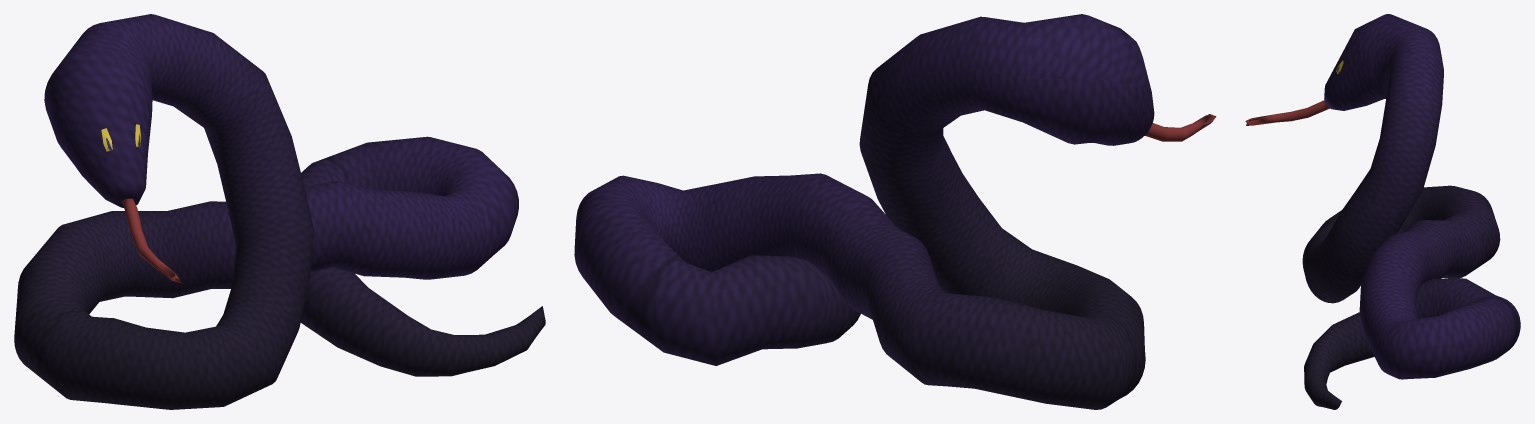
The picture shows the model from 3 angles, left to right: view 1: azimuth 30°, elevation 25°; view 2: azimuth 150°, elevation 25°; view 3: azimuth 270°, elevation 25°; orthographic projection. The views are drawn at different scales.
Parts seen in each view (by area): view 1: Cone; view 2: Cone; view 3: Cone.
Part boxes in pixels (left/top/right/bottom): Cone: left=14, top=14, right=545, bottom=409; Cone: left=574, top=14, right=1216, bottom=409; Cone: left=1245, top=14, right=1520, bottom=409.
Bounding box in the file's own units: 1505 × 1072 × 1022.
